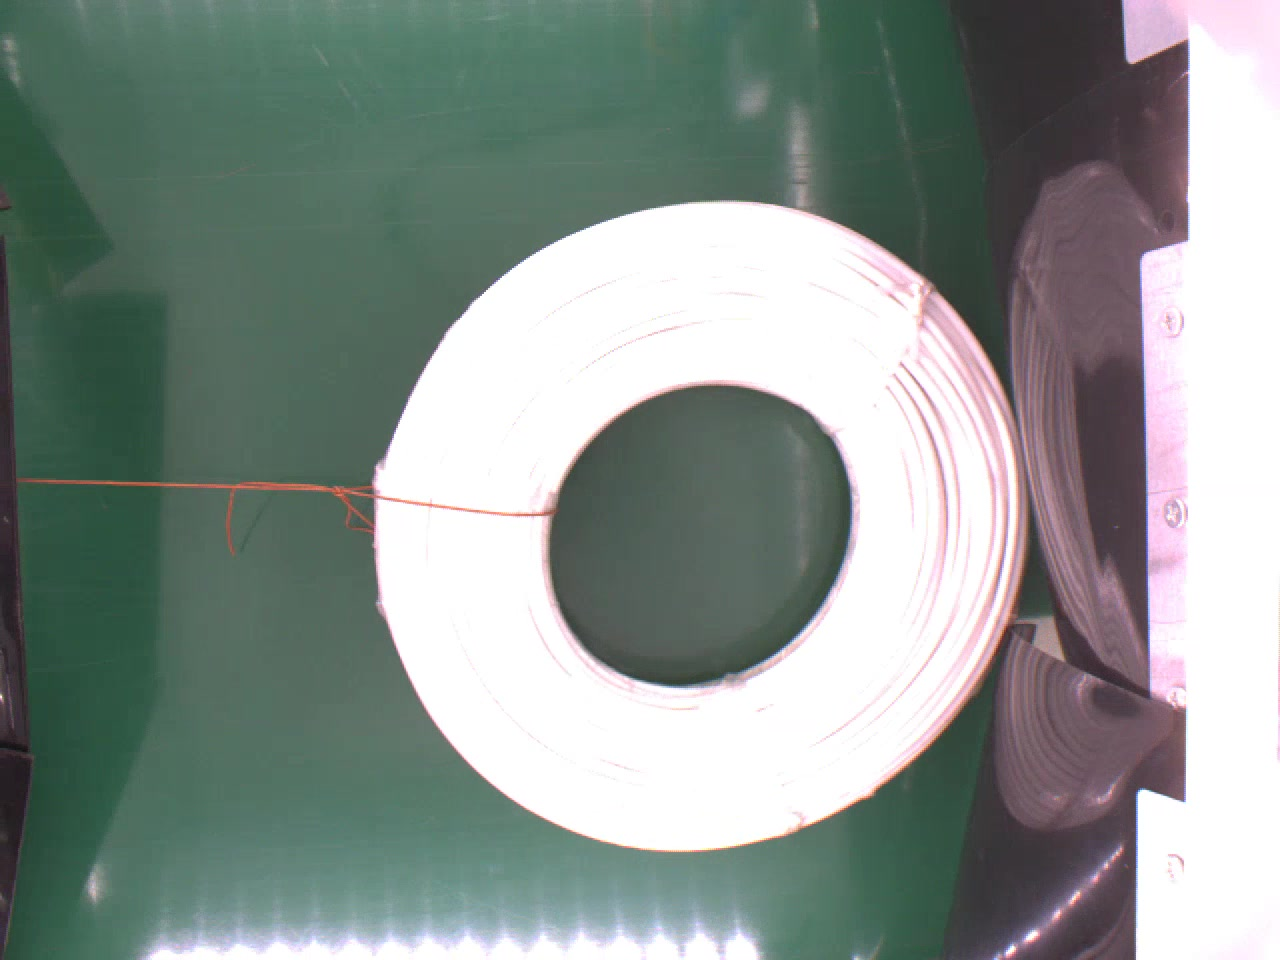white: (365, 187, 1046, 859)
